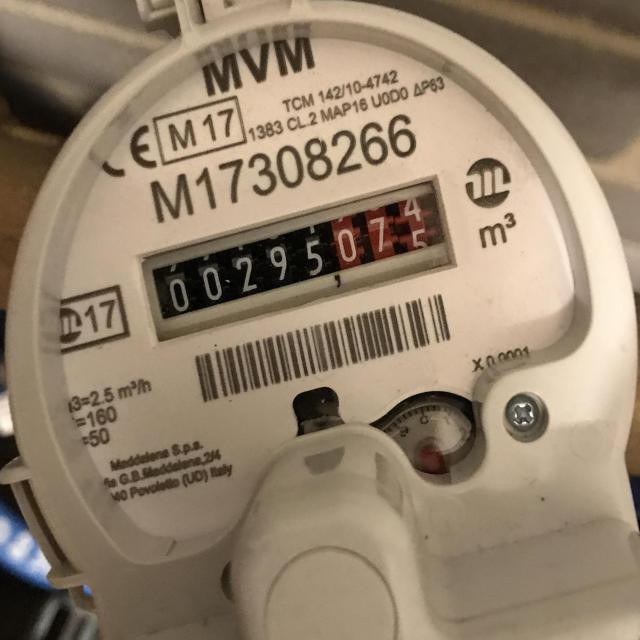gaz_meter: (6, 1, 640, 572)
indication: (143, 177, 455, 346)
